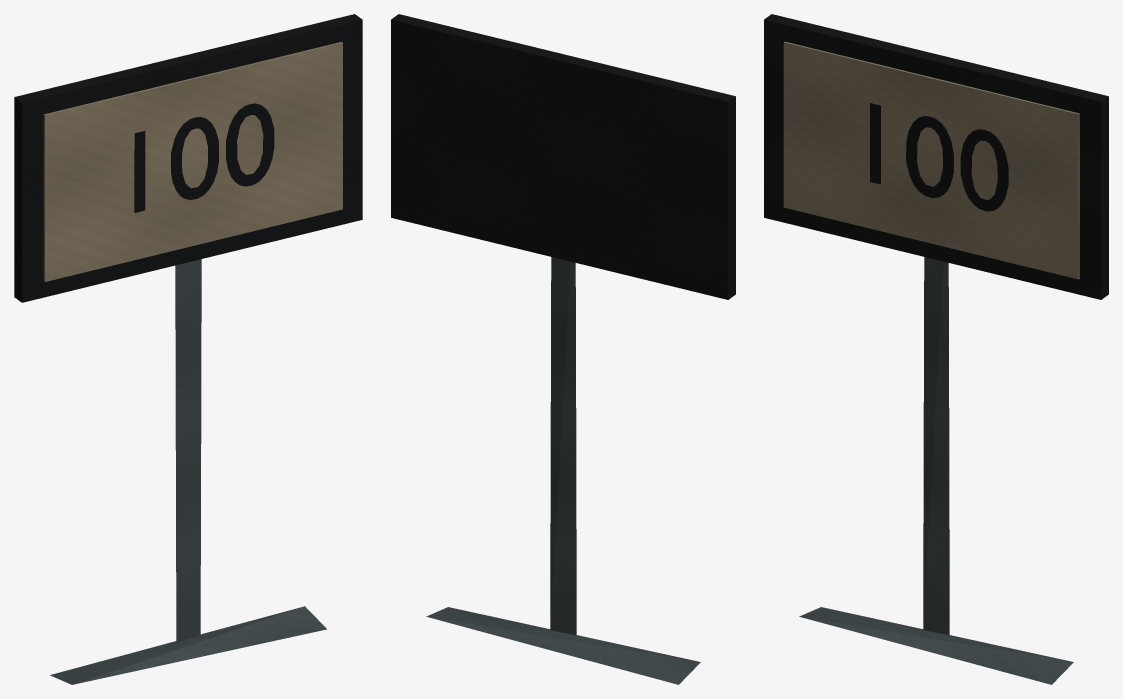
Rendered from braking-board-100-lod.glb.
3 renders of one model, left to right at view 1: azimuth 30°, elevation 25°; view 2: azimuth 150°, elevation 25°; view 3: azimuth 330°, elevation 25°, orthographic.
Visible parts, largest first — view 1: braking-board-100-distance-board_2, braking-board-100-distance-board_1, braking-board-100-distance-board_0, distance-100; view 2: braking-board-100-distance-board_1, braking-board-100-distance-board_0; view 3: braking-board-100-distance-board_2, braking-board-100-distance-board_1, braking-board-100-distance-board_0, distance-100.
Boxes of the visible parts, x1,y1,x2,y2 form: braking-board-100-distance-board_2: [43, 42, 342, 281]; braking-board-100-distance-board_1: [14, 14, 362, 302]; braking-board-100-distance-board_0: [50, 259, 326, 684]; distance-100: [134, 103, 274, 212]; braking-board-100-distance-board_1: [391, 14, 735, 299]; braking-board-100-distance-board_0: [426, 257, 700, 684]; braking-board-100-distance-board_2: [783, 41, 1079, 279]; braking-board-100-distance-board_1: [764, 14, 1108, 299]; braking-board-100-distance-board_0: [799, 257, 1073, 684]; distance-100: [870, 103, 1008, 211].
Bounding box in the file's own units: 1.05 × 1.75 × 0.12.
3 materials, 3 textured.
